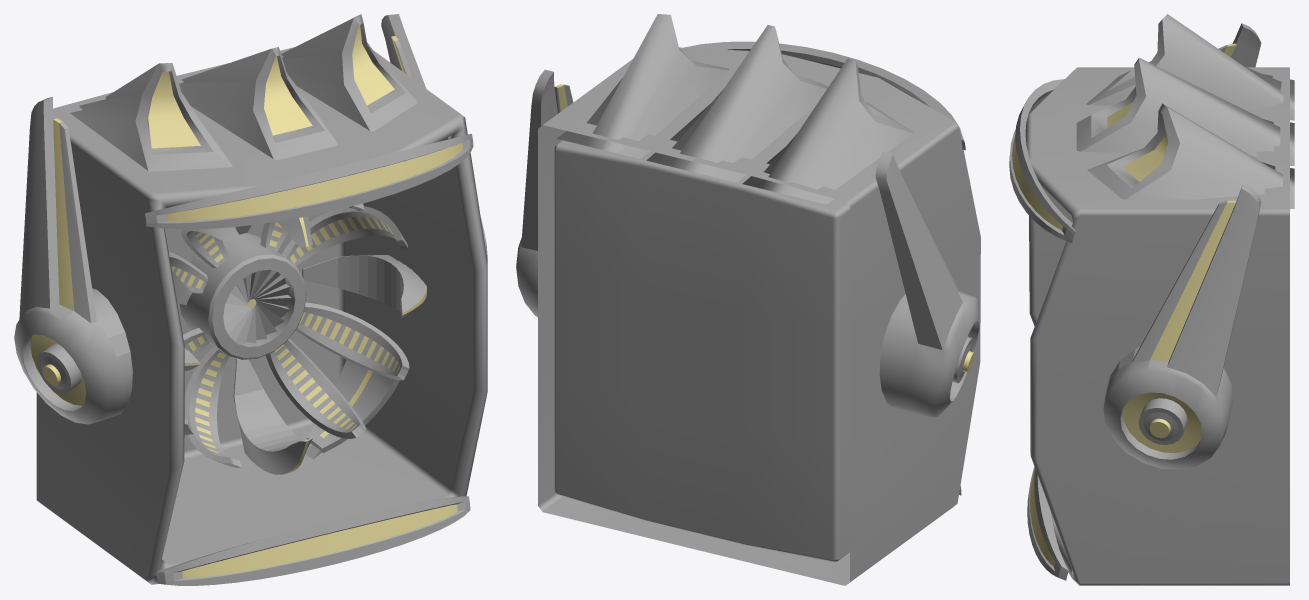
Rendered from Chamber_1.fbx.
3 renders of one model, left to right at view 1: azimuth 30°, elevation 25°; view 2: azimuth 150°, elevation 25°; view 3: azimuth 270°, elevation 25°, orthographic. The views are drawn at different scales.
Visible parts, largest first — view 1: Chamber, Hardware1; view 2: Chamber; view 3: Chamber.
Part boxes in pixels (x1,y1,x2,y2): Chamber: (14,14,487,585); Hardware1: (168,203,426,474); Chamber: (516,14,980,585); Chamber: (1009,14,1294,585).
Size of the model in its own units: 544 by 559 by 318.
